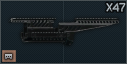AK TDI X47 tactical handguard rail system: (0, 0, 127, 64)
